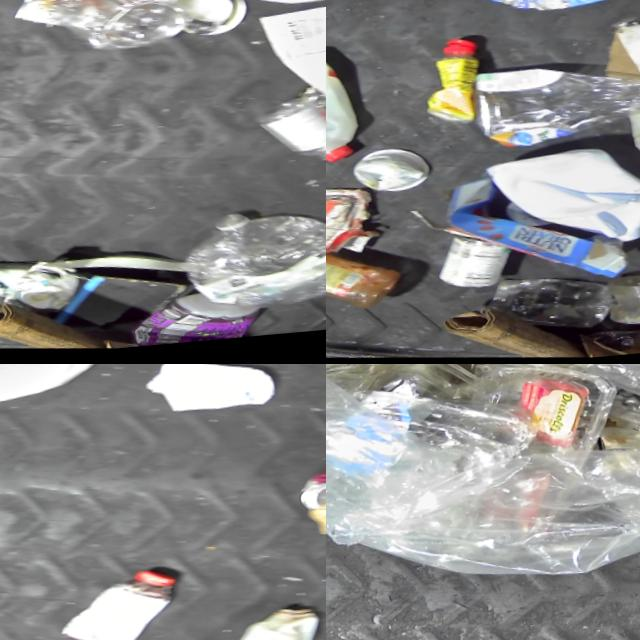can: (442, 231, 518, 296), (181, 0, 252, 46), (298, 61, 326, 137), (326, 189, 358, 235), (301, 486, 326, 520)
milk_jug: (480, 138, 640, 259), (0, 364, 107, 426), (326, 44, 370, 167), (198, 603, 326, 640)
non_white_jug: (134, 289, 269, 353)
plastic_bottle: (469, 56, 640, 165), (183, 204, 326, 328), (0, 0, 200, 69)
